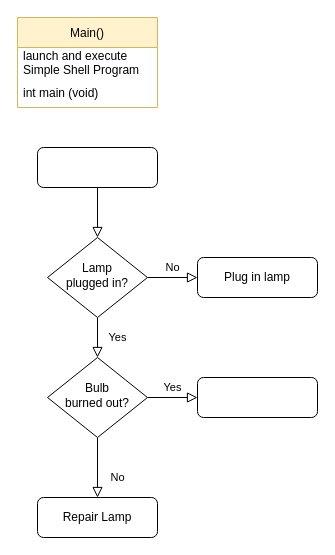
This 335x555 diagram has some shape labels left out. The shapes that lost their labels are listed below. From the top down, each one's centre as x and y in pixels, then its label:
At (x=97, y=167): "Lamp doesn't work".
At (x=257, y=397): "Replace Bulb".
